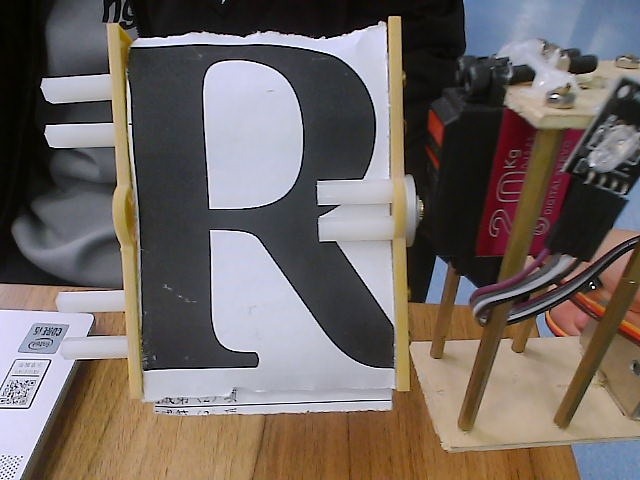R: (48, 6, 400, 430)
